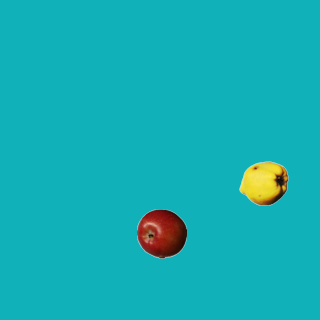Apple Braeburn: (136, 208, 186, 258)
Quince: (238, 158, 288, 208)
